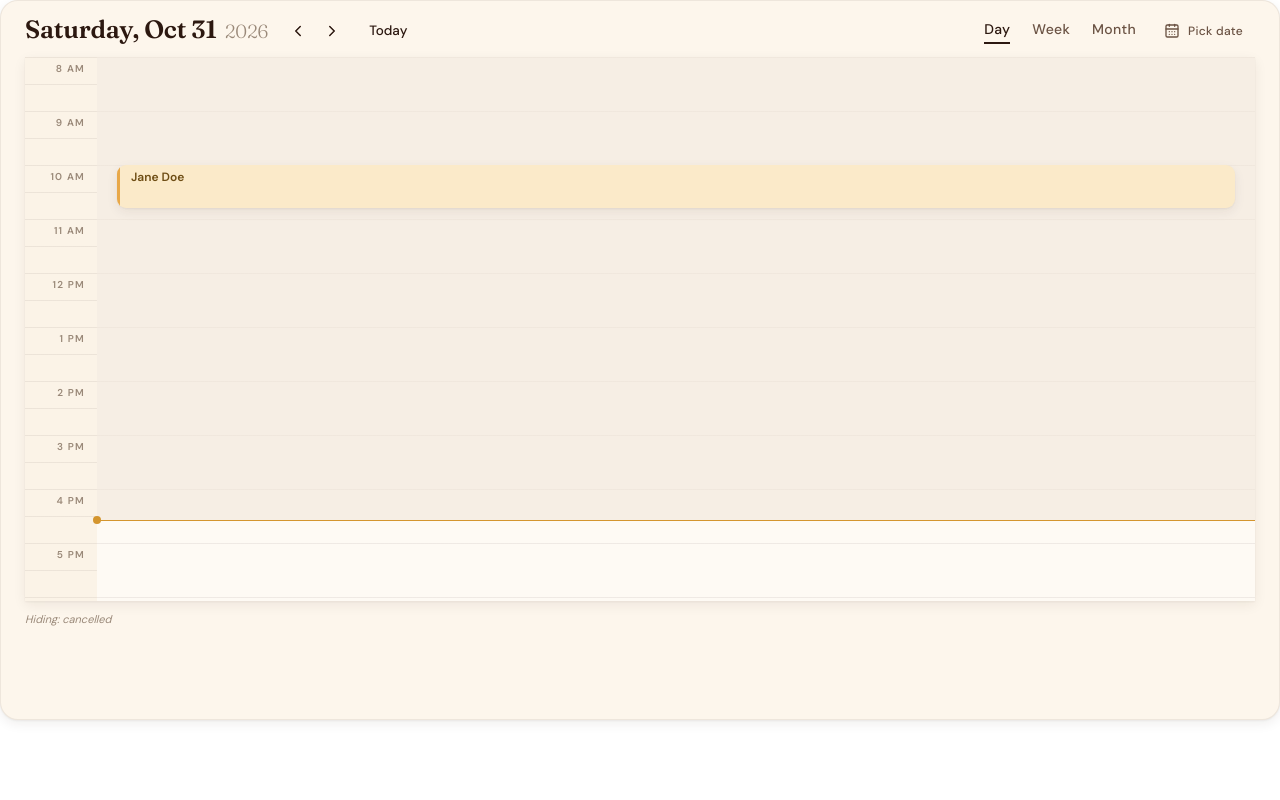
Test: EditorialCalendar › shows the conflict copy when a drag-to-reschedule is rejected with a 409
The image size is (1280, 800).
(page scrolled)
Press the mouse on the button "Jane Doe" at [676, 187], box [113,165,1239,208]
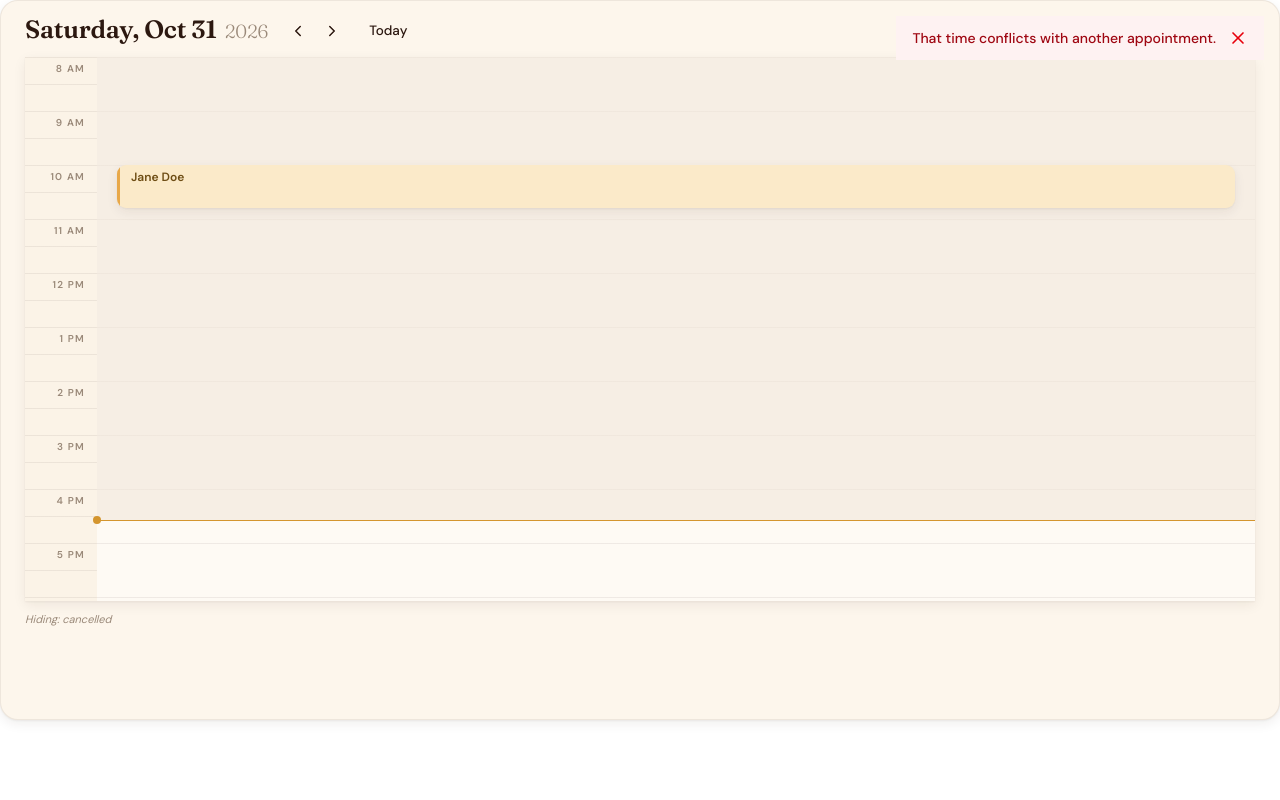
Expected: the text "That time conflicts with another appointment." is shown, [912,28,1216,48]
